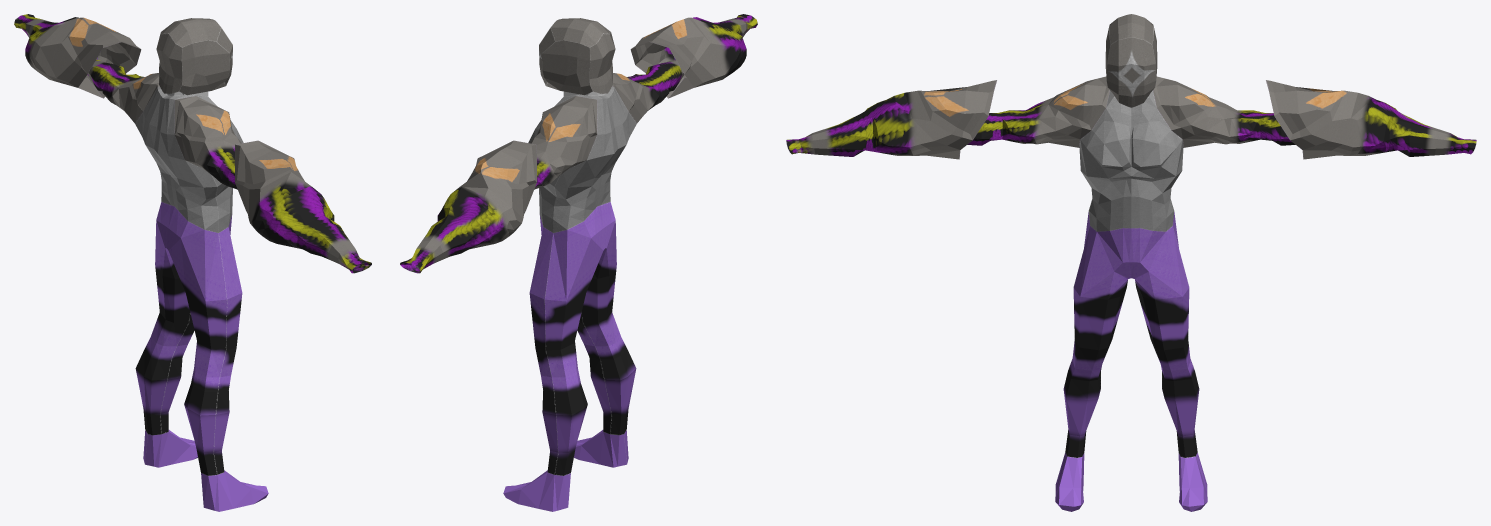
File: main_chracter_seamed.fbx
The picture shows the model from 3 angles, left to right: view 1: azimuth 30°, elevation 25°; view 2: azimuth 150°, elevation 25°; view 3: azimuth 270°, elevation 25°; orthographic projection.
Visible parts, largest first — view 1: Cube, Gun Arms, Helmet; view 2: Cube, Gun Arms, Helmet; view 3: Cube, Gun Arms, Helmet.
Part boxes in pixels (x1,y1,x2,y2): Cube: (87, 57, 268, 511); Gun Arms: (14, 14, 371, 273); Helmet: (156, 18, 232, 95); Cube: (503, 57, 684, 511); Gun Arms: (400, 14, 757, 273); Helmet: (539, 18, 615, 95); Cube: (967, 76, 1295, 511); Gun Arms: (786, 80, 1476, 159); Helmet: (1105, 14, 1157, 107).
Bounding box in the file's own units: 132 × 630 × 837.
